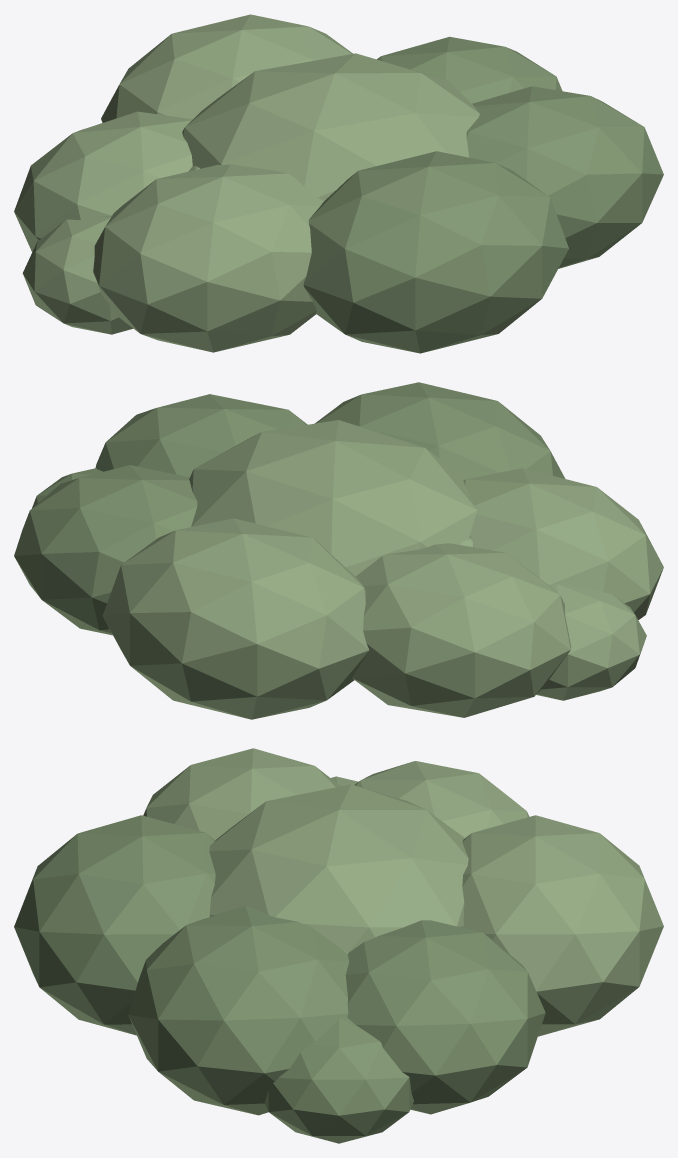
The model's file is bush_dense.glb.
3 renders of one model, top to bottom at view 1: azimuth 30°, elevation 25°; view 2: azimuth 150°, elevation 25°; view 3: azimuth 270°, elevation 25°, orthographic. The views are drawn at different scales.
Visible parts, largest first — view 1: leaf_clump_06, leaf_clump_03, leaf_clump_01, leaf_clump_02, leaf_clump_05, leaf_clump_07, leaf_clump_11, leaf_clump_04; view 2: leaf_clump_07, leaf_clump_05, leaf_clump_01, leaf_clump_04, leaf_clump_03, leaf_clump_06, leaf_clump_02, leaf_clump_11; view 3: leaf_clump_02, leaf_clump_01, leaf_clump_07, leaf_clump_06, leaf_clump_04, leaf_clump_10, leaf_clump_03, leaf_clump_05.
Part boxes in pixels (bbox=[...]): leaf_clump_06: bbox=[303, 151, 568, 353]; leaf_clump_03: bbox=[93, 164, 323, 352]; leaf_clump_01: bbox=[182, 53, 479, 200]; leaf_clump_02: bbox=[466, 86, 663, 268]; leaf_clump_05: bbox=[14, 111, 192, 251]; leaf_clump_07: bbox=[101, 14, 352, 122]; leaf_clump_11: bbox=[22, 215, 132, 334]; leaf_clump_04: bbox=[377, 36, 562, 103]; leaf_clump_07: bbox=[102, 518, 369, 719]; leaf_clump_05: bbox=[352, 543, 571, 717]; leaf_clump_01: bbox=[189, 420, 477, 576]; leaf_clump_04: bbox=[14, 465, 197, 635]; leaf_clump_03: bbox=[463, 468, 663, 619]; leaf_clump_06: bbox=[315, 382, 565, 478]; leaf_clump_02: bbox=[95, 394, 307, 477]; leaf_clump_11: bbox=[536, 584, 646, 700]; leaf_clump_02: bbox=[128, 906, 348, 1115]; leaf_clump_01: bbox=[209, 784, 468, 952]; leaf_clump_07: bbox=[462, 815, 663, 1036]; leaf_clump_06: bbox=[14, 815, 215, 1035]; leaf_clump_04: bbox=[345, 920, 545, 1114]; leaf_clump_10: bbox=[264, 1017, 413, 1143]; leaf_clump_03: bbox=[143, 748, 340, 840]; leaf_clump_05: bbox=[354, 761, 529, 837].
Size of the model in its own units: 3.56 by 1.1 by 3.14.
